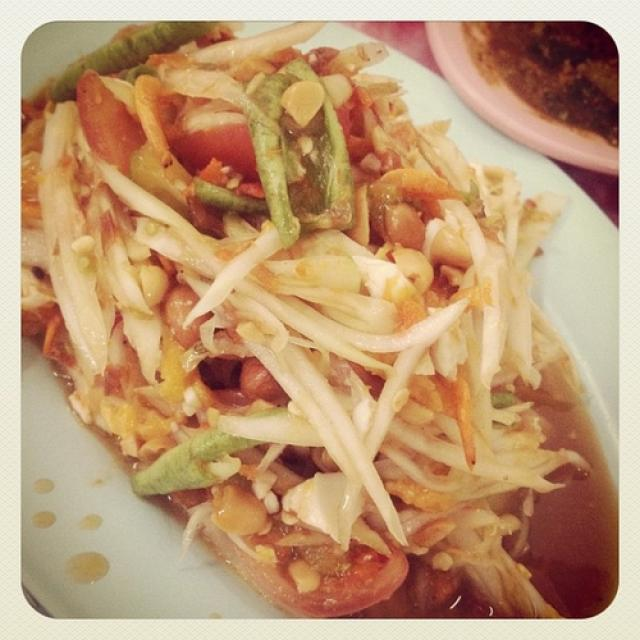蔬菜料理: (36, 28, 613, 602)
